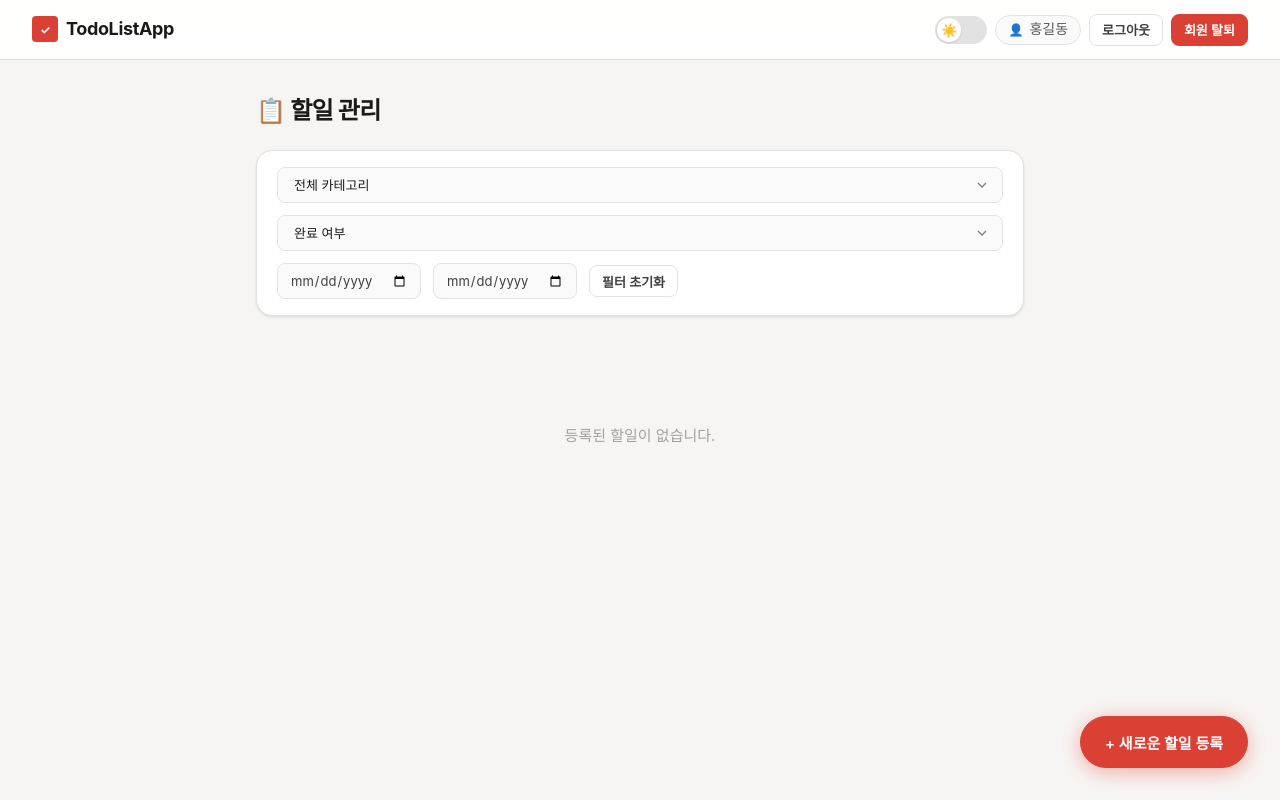
TodoListPage › 회원 탈퇴 버튼 클릭 시 확인 모달이 표시된다
Click the button with test id "delete-account-button": (1209, 30) top-left (1171, 14), bottom-right (1248, 46)
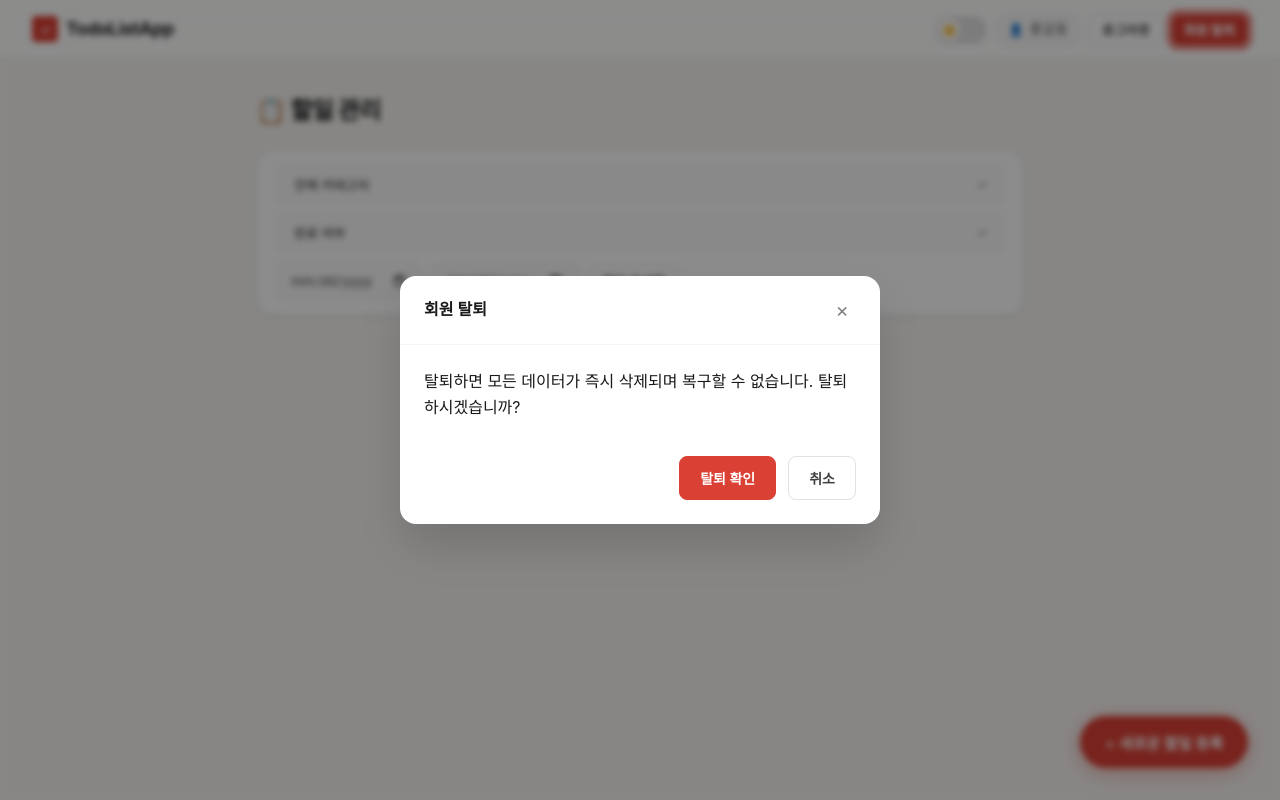
Check: the text "탈퇴하면 모든 데이터가 즉시 삭제되며 복구할 수 없습니다. 탈퇴하시겠습니까?" is shown, box top-left (424, 369), bottom-right (856, 420)
